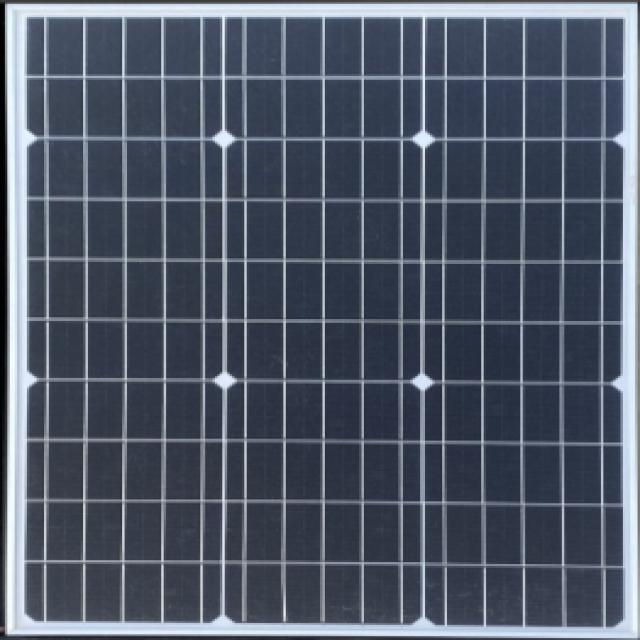clean-solar-panel: (27, 16, 622, 625)
